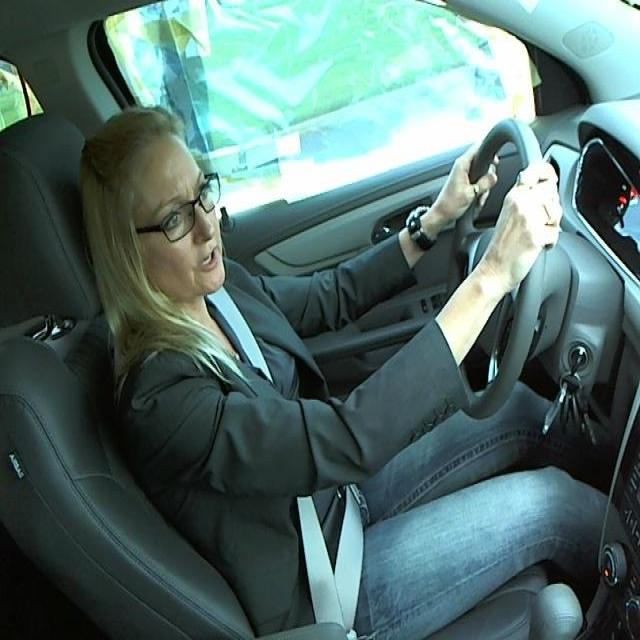without_using_phone: (63, 80, 264, 302)
